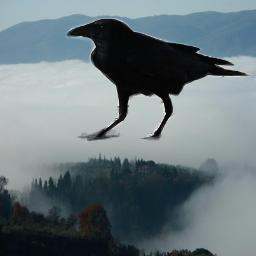Crow: (65, 18, 252, 143)
